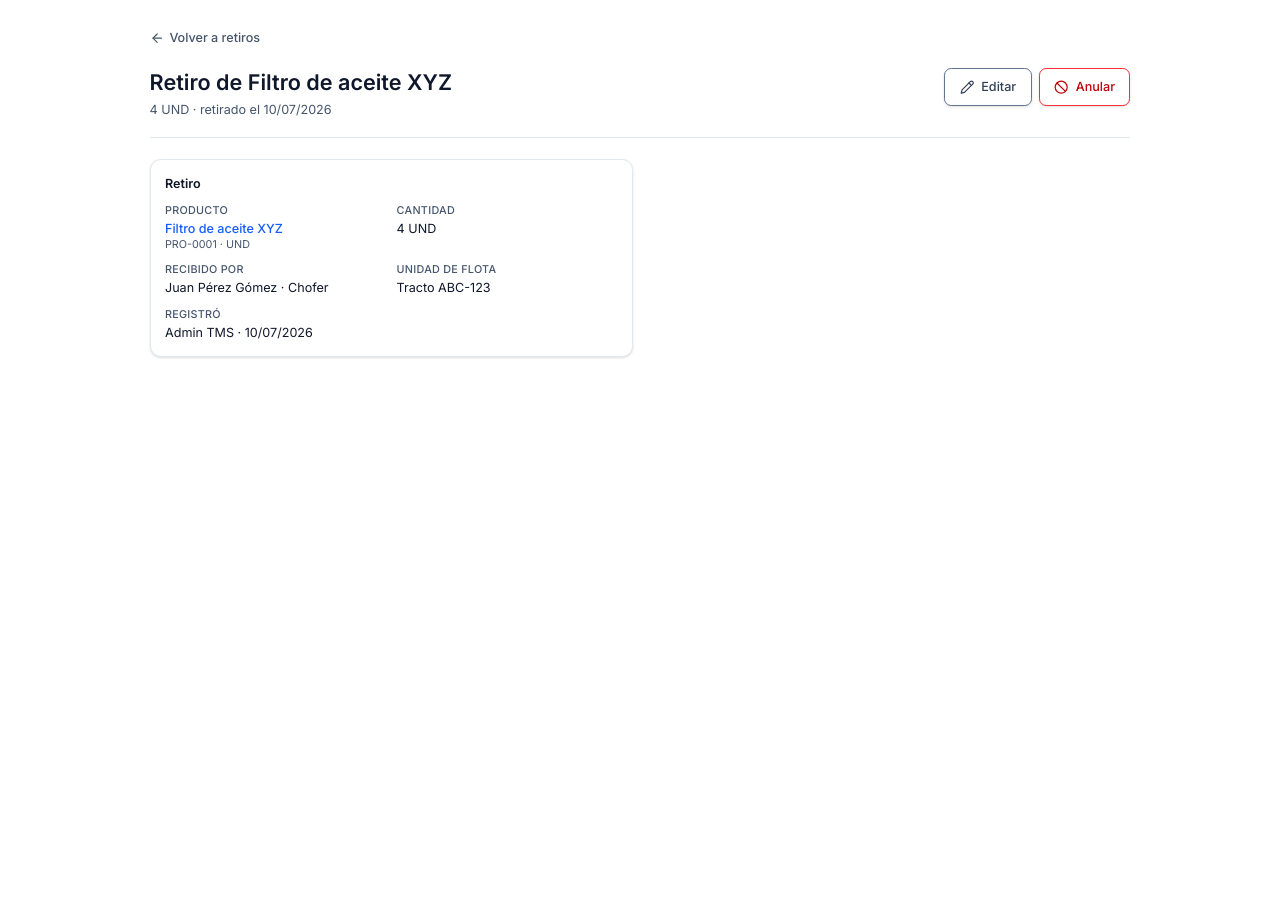
Test: WithdrawalDetailPage › el diálogo advierte que anular devuelve el stock al almacén
Click the button "Anular". click: coordinates (1085, 87)
box: [1039,68,1130,106]
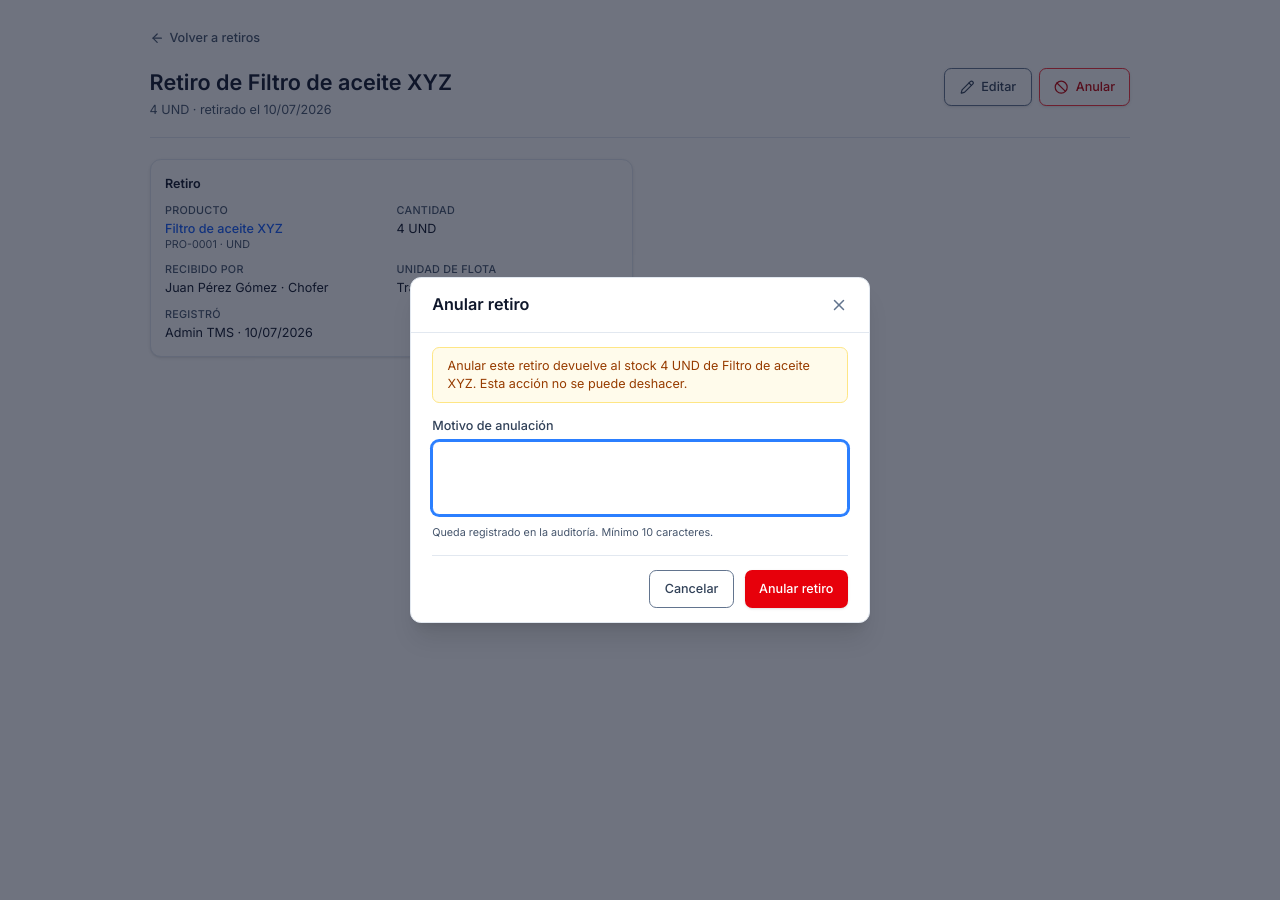
Expected: the dialog does not show "descuenta del stock", [410,277,870,623]
Now the dialog shows "devuelve al stock", box [448,358,660,373]
Now the dialog shows "no se puede deshacer", box [473,376,687,391]
